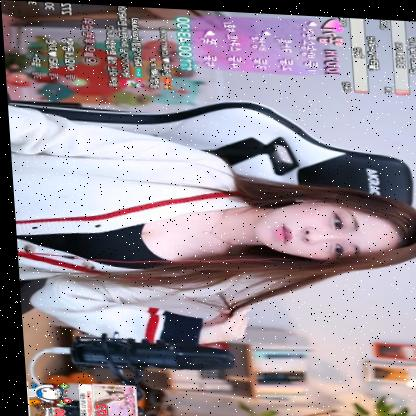donation: (72, 382, 132, 416), (20, 382, 68, 416)
streamer: (5, 103, 416, 358)
